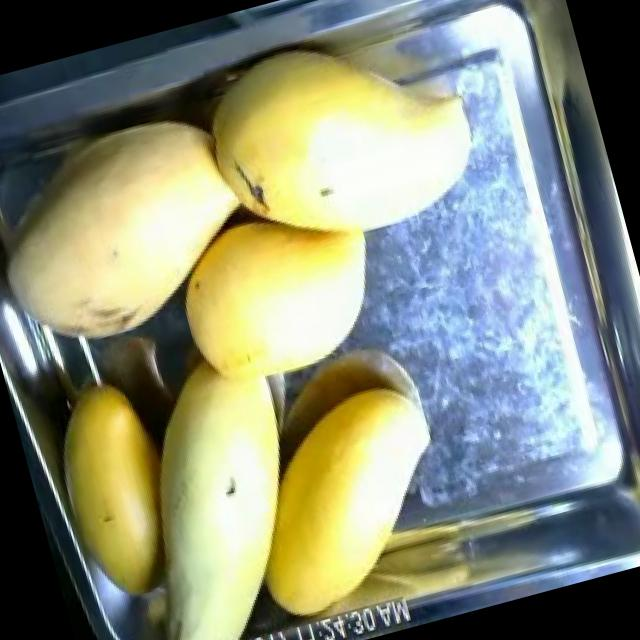fruit: (177, 2, 482, 268), (0, 90, 271, 382), (212, 360, 482, 639), (140, 164, 416, 423), (18, 358, 205, 628)
